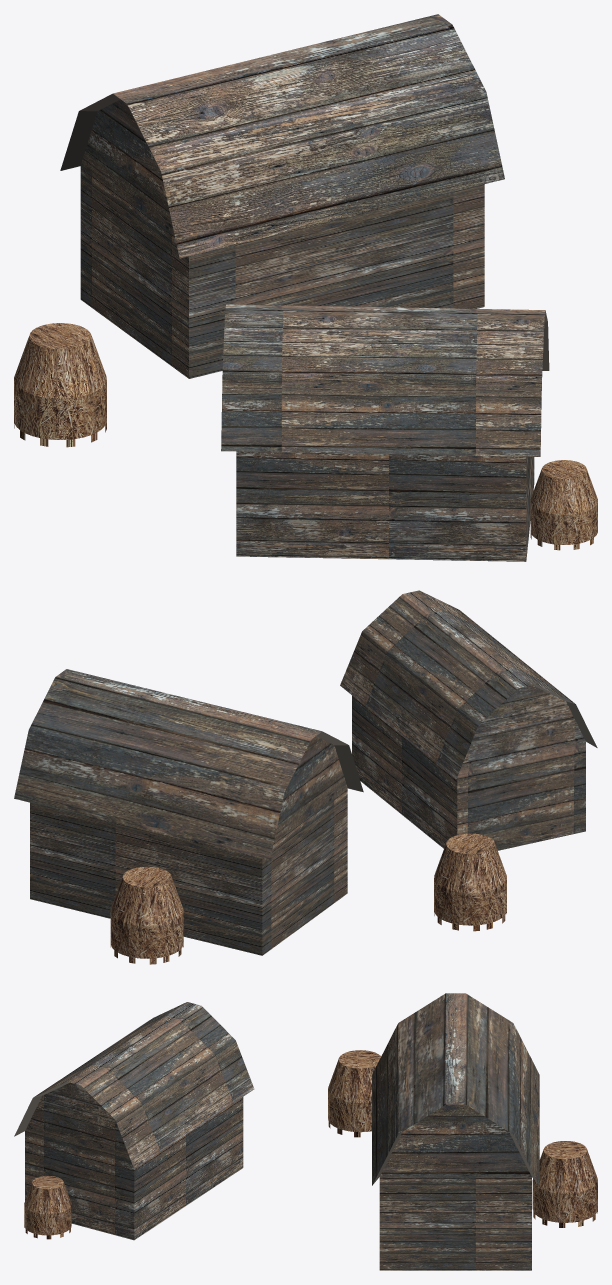
The model's file is granary.glb.
3 views of the same model, one above another, from view 1: azimuth 30°, elevation 25°; view 2: azimuth 150°, elevation 25°; view 3: azimuth 270°, elevation 25° (orthographic). The views are drawn at different scales.
Parts seen in each view (by area): view 1: Cube, Cube.001, Cylinder, Cylinder.002; view 2: Cube, Cube.001, Cylinder.001, Cylinder; view 3: Cube, Cube.001, Cylinder.001, Cylinder, Cylinder.002.
Part boxes in pixels (x1=…): Cube: x1=60, y1=14, x2=504, y2=378; Cube.001: x1=221, y1=304, x2=549, y2=561; Cylinder: x1=14, y1=323, x2=106, y2=447; Cylinder.002: x1=530, y1=460, x2=597, y2=550; Cube: x1=14, y1=669, x2=363, y2=955; Cube.001: x1=340, y1=590, x2=597, y2=850; Cylinder.001: x1=110, y1=866, x2=183, y2=964; Cylinder: x1=434, y1=833, x2=506, y2=931; Cube: x1=372, y1=993, x2=539, y2=1270; Cube.001: x1=14, y1=1002, x2=254, y2=1240; Cylinder.001: x1=532, y1=1141, x2=597, y2=1227; Cylinder: x1=328, y1=1050, x2=380, y2=1137; Cylinder.002: x1=24, y1=1176, x2=71, y2=1239.
Bounding box in the file's own units: 5.94 × 3.02 × 8.68.
Materials: 4 (4 with a texture image).
